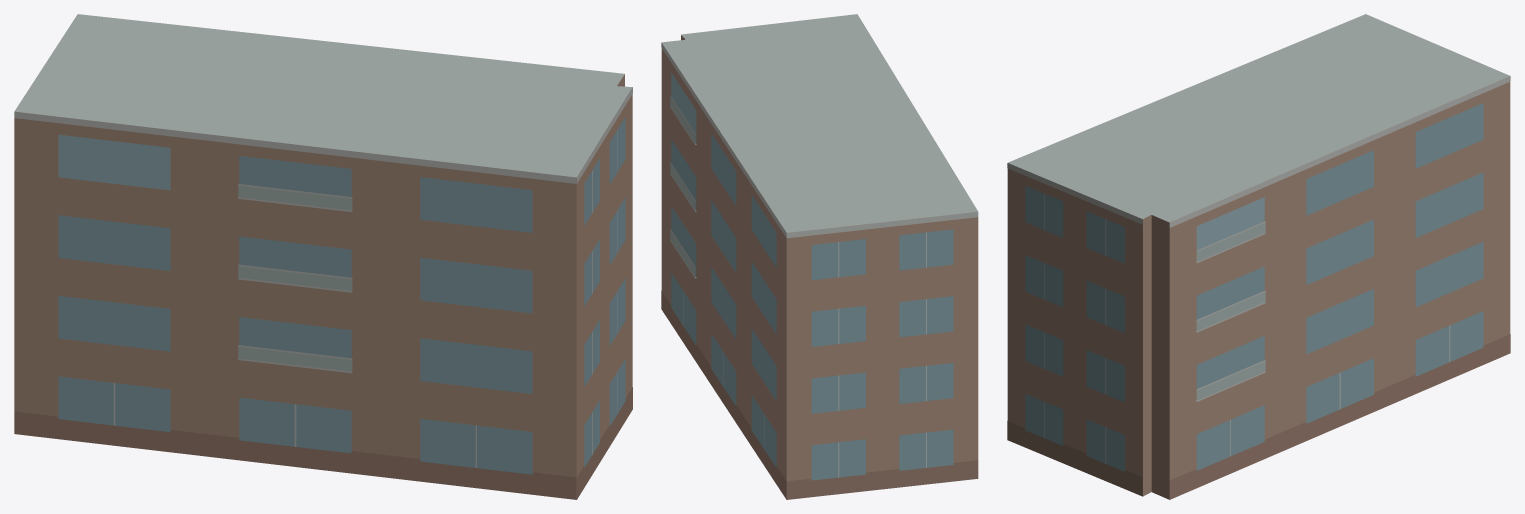
The model's file is survey-upis-32845289.glb.
3 renders of one model, left to right at view 1: azimuth 30°, elevation 25°; view 2: azimuth 150°, elevation 25°; view 3: azimuth 270°, elevation 25°, orthographic. The views are drawn at different scales.
Parts seen in each view (by area): view 1: survey-upis-32845289.tmp; view 2: survey-upis-32845289.tmp; view 3: survey-upis-32845289.tmp.
Boxes of the visible parts, x1,y1,x2,y2 form: survey-upis-32845289.tmp: (14, 14, 632, 499); survey-upis-32845289.tmp: (661, 14, 978, 499); survey-upis-32845289.tmp: (1007, 14, 1510, 499).
Bounding box in the file's own units: 19.68 × 12.2 × 20.06.
